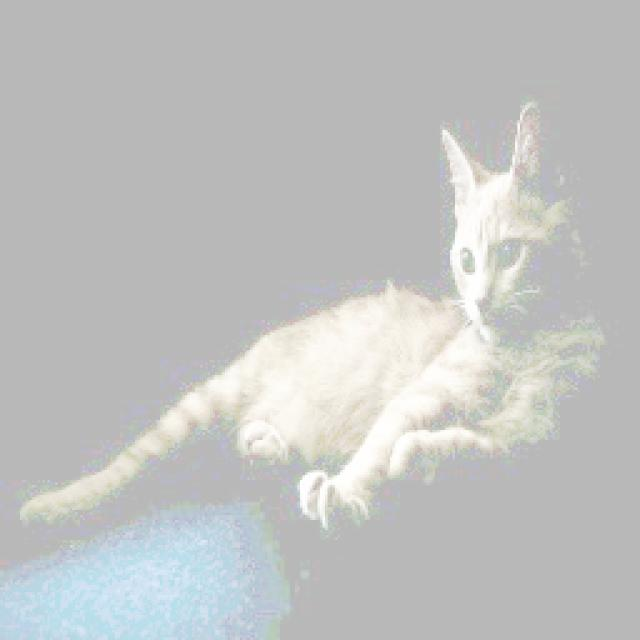cat: (17, 101, 592, 556)
